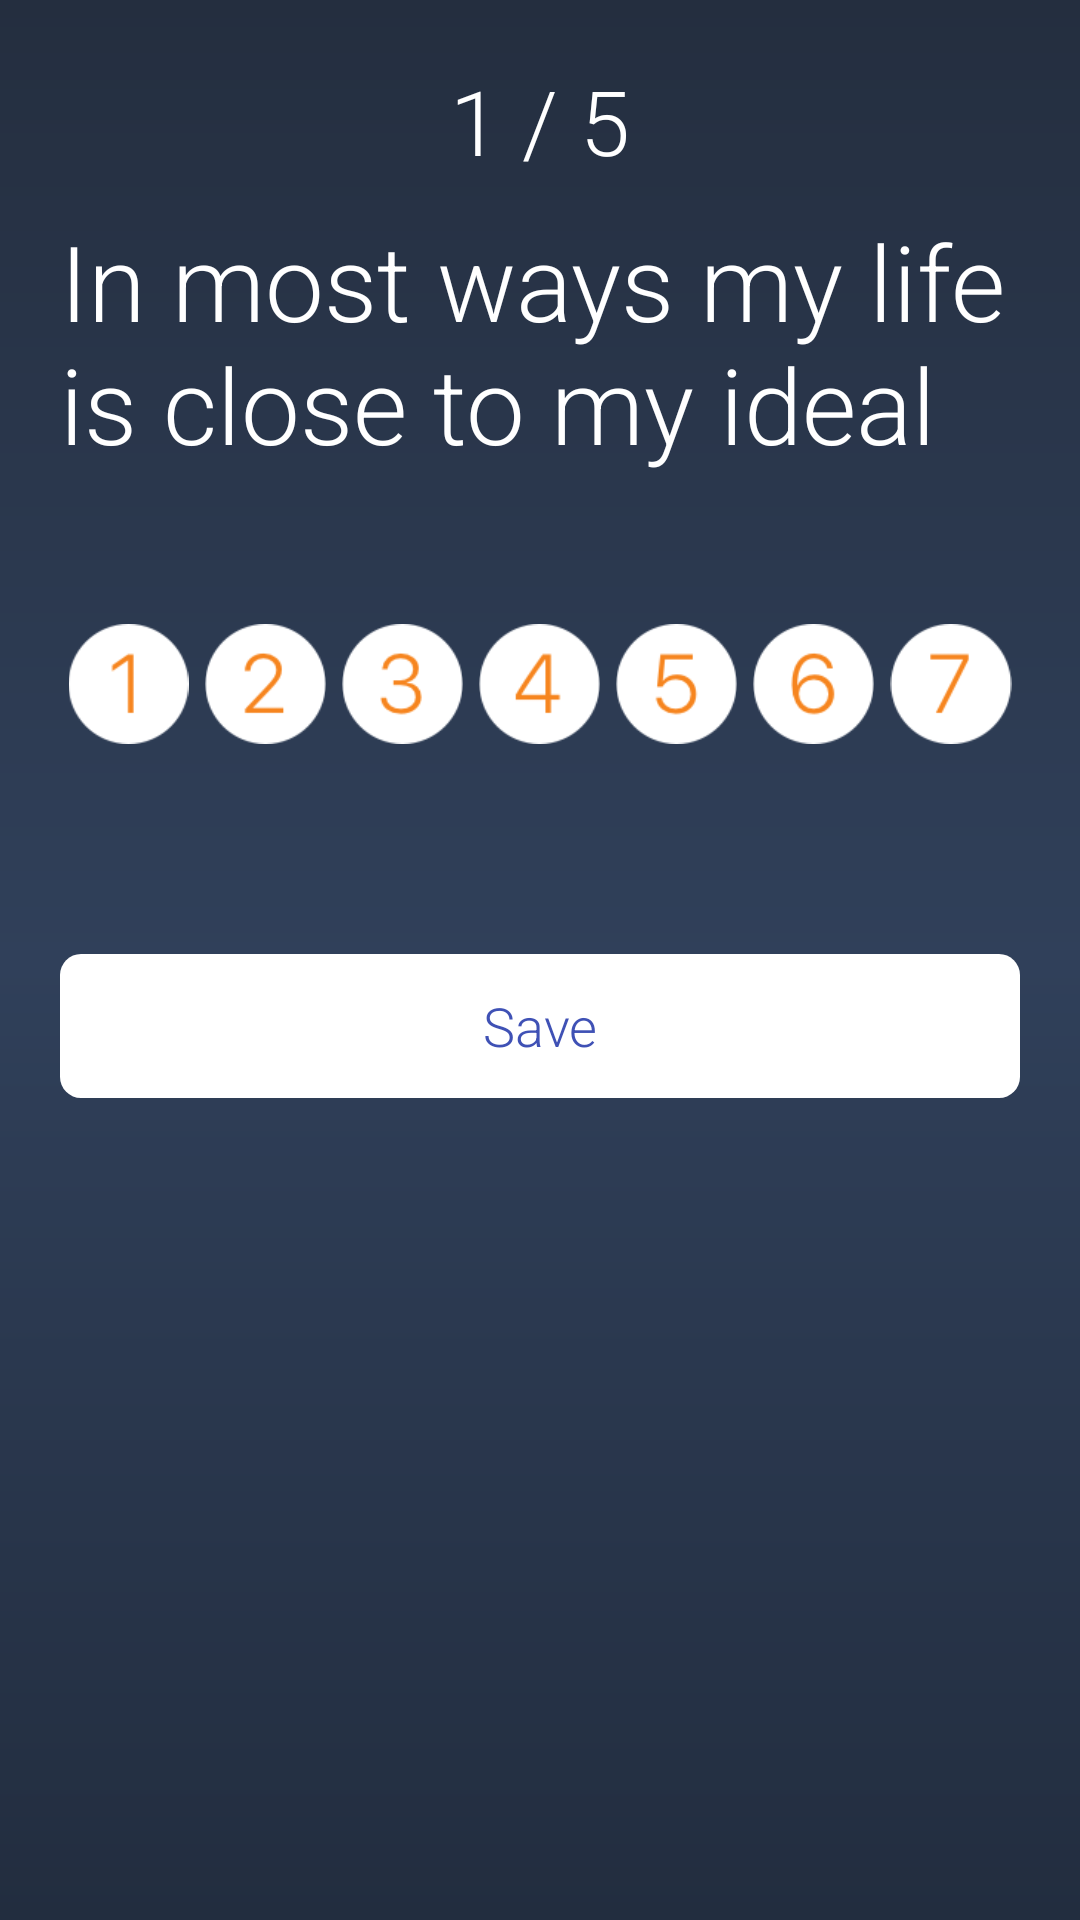

Locate icon controls on the screen. Image size 1080w x 1920h, boxes as bbox=(x1, y1, x2, y2).
circle notselected: bbox=(69, 624, 189, 744), bbox=(205, 624, 326, 744), bbox=(342, 624, 463, 744), bbox=(479, 624, 600, 744), bbox=(616, 624, 737, 744), bbox=(753, 624, 874, 744), bbox=(890, 624, 1012, 744)
